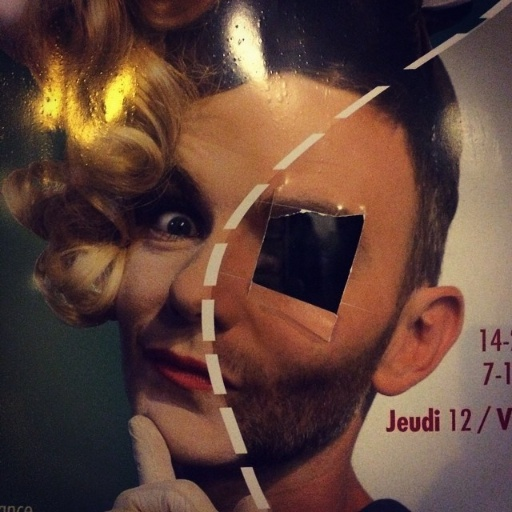hand: (108, 419, 214, 511)
